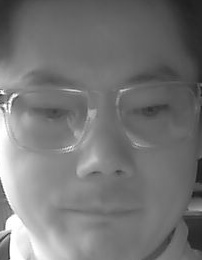glass: (5, 85, 91, 153), (115, 80, 197, 147)
mouth: (56, 192, 142, 233)
